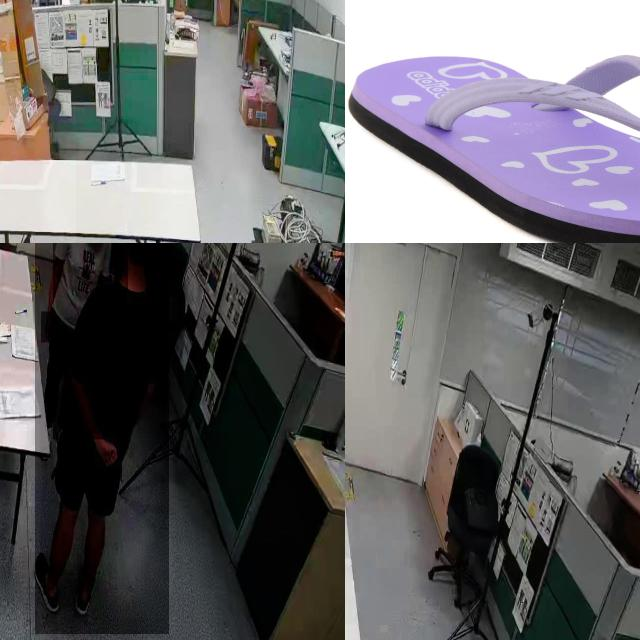Sandals: (345, 52, 640, 243)
hand_noglove: (94, 434, 118, 469), (41, 312, 53, 344)
person: (34, 243, 169, 635), (53, 243, 128, 439)
shoes: (32, 545, 64, 615), (70, 561, 100, 621)
